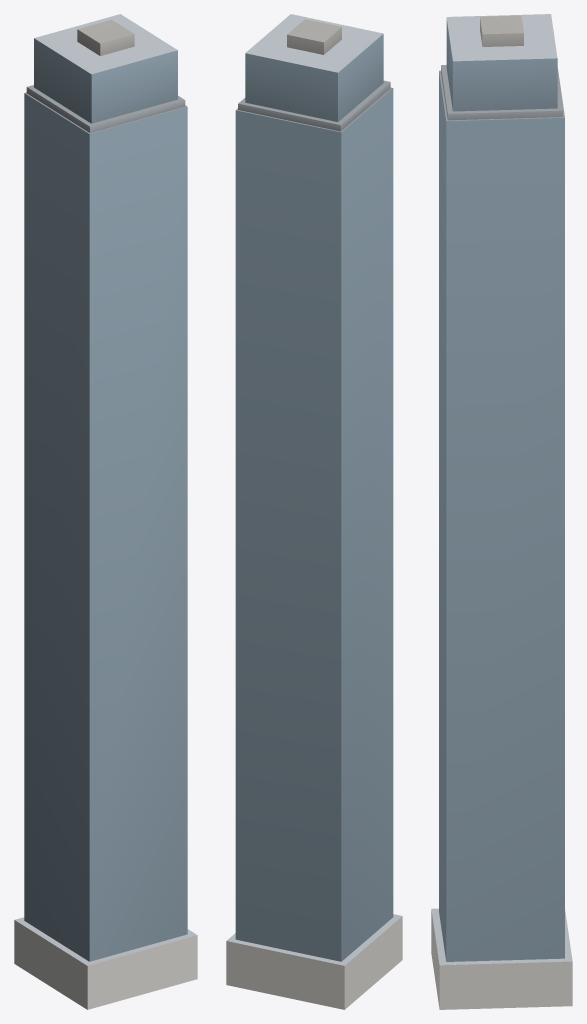
Rendered from tower_08.glb.
The picture shows the model from 3 angles, left to right: view 1: azimuth 30°, elevation 25°; view 2: azimuth 150°, elevation 25°; view 3: azimuth 270°, elevation 25°; orthographic projection.
Visible parts, largest first — view 1: tower_08; view 2: tower_08; view 3: tower_08.
Part boxes in pixels (x1=…): tower_08: x1=14, y1=14, x2=197, y2=1009; tower_08: x1=226, y1=14, x2=402, y2=1009; tower_08: x1=431, y1=14, x2=572, y2=1009.
Size of the model in its own units: 40.52 by 299 by 40.1.
